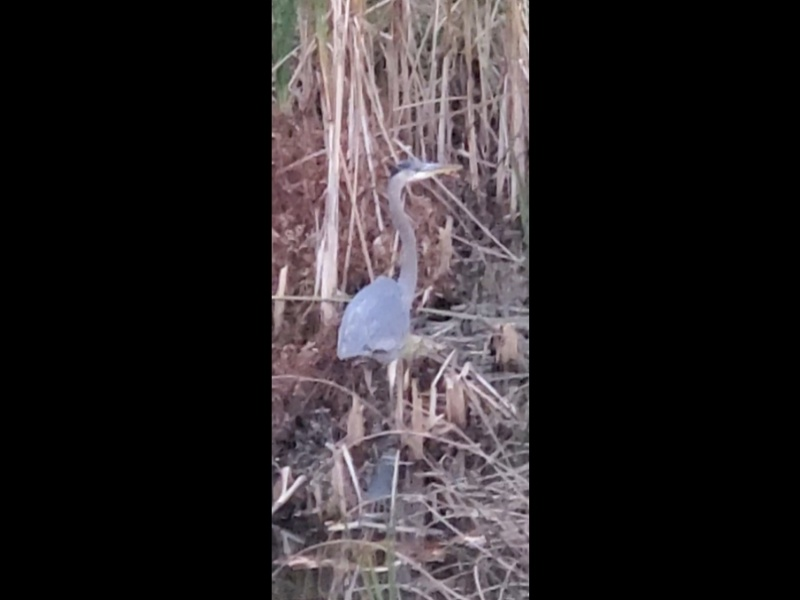heron: (331, 159, 462, 414)
